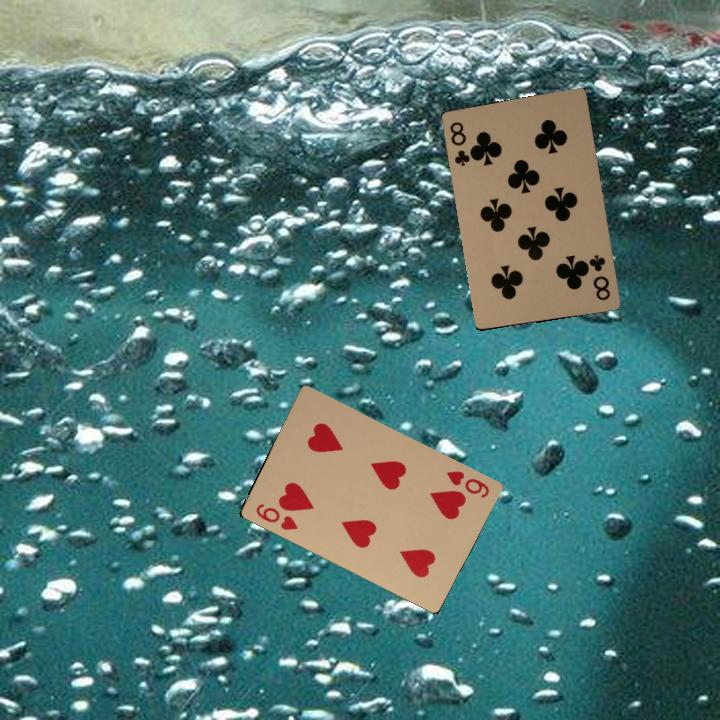6h: (442, 467, 492, 501), (252, 499, 300, 533)
8c: (446, 118, 477, 168), (584, 251, 613, 303)
